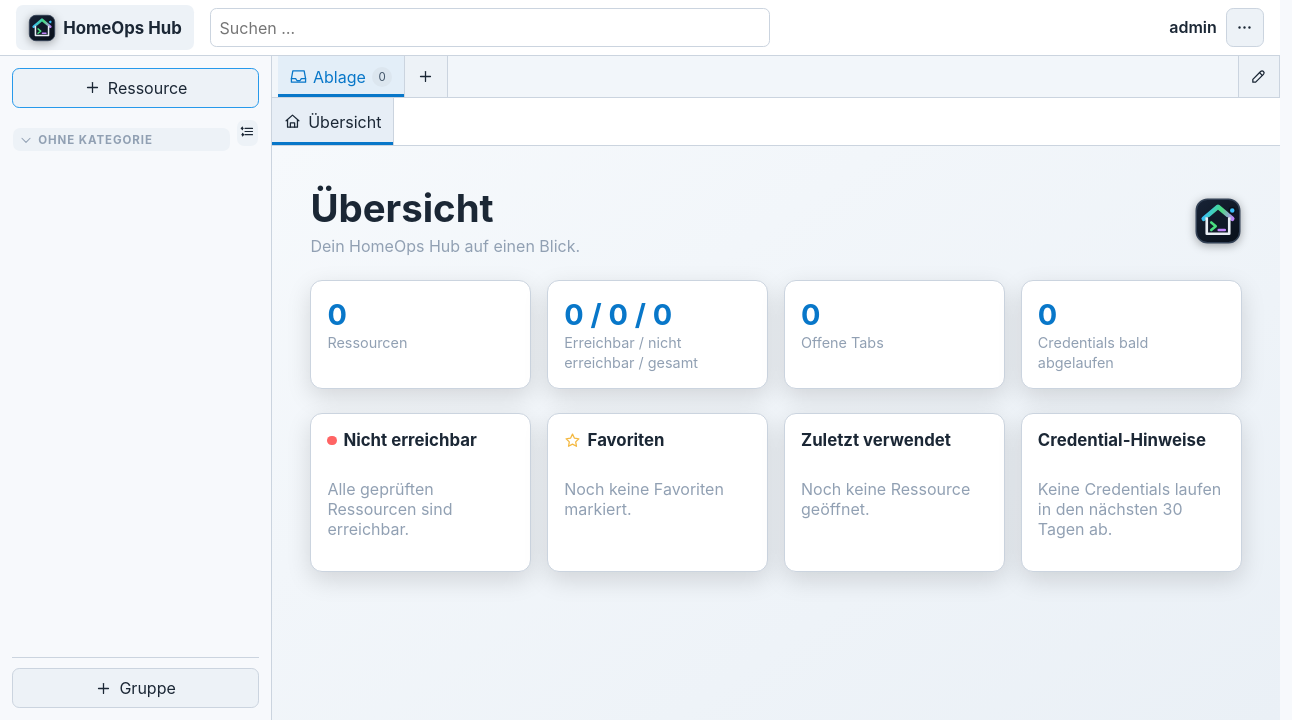
Test: shows a visible error when logout is rejected
Expected: the field with placeholder "Suchen …" is shown, [210, 8, 770, 47]
Click the button named "Benutzermenü" at point(1245, 28), box [1226, 8, 1264, 47]
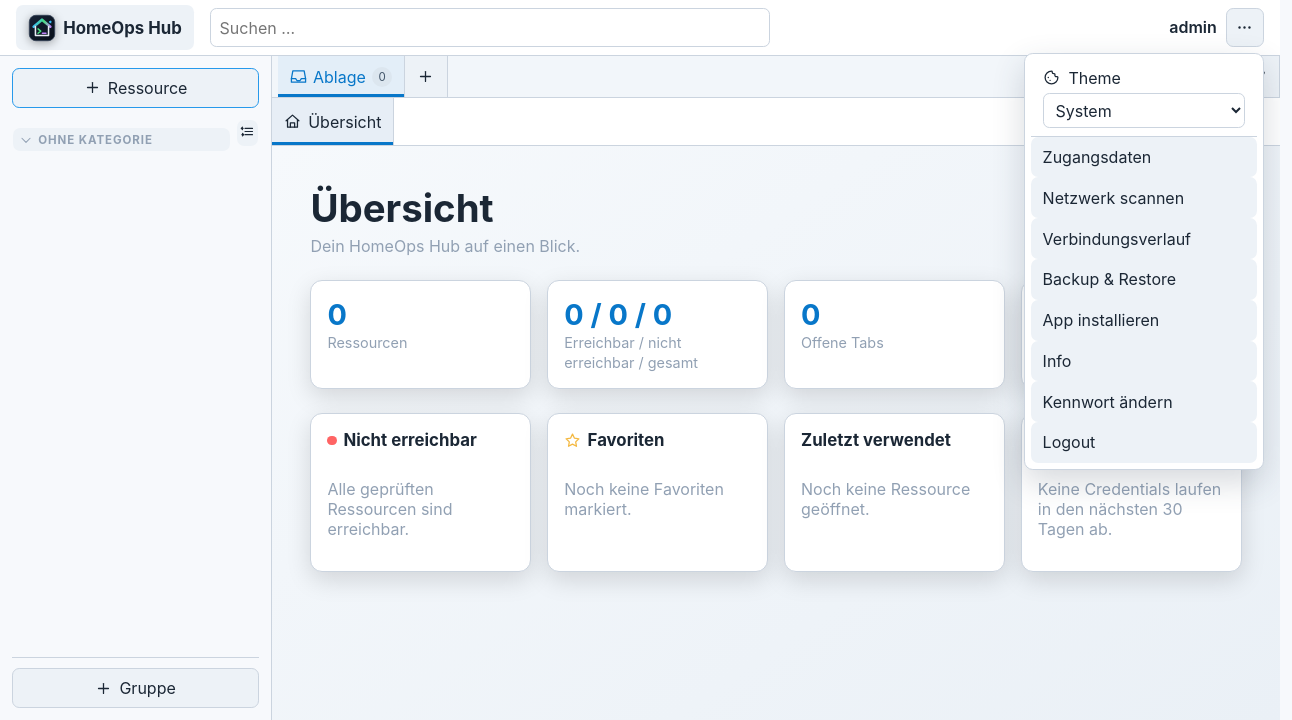
Click the menu item "Logout" at point(1144, 442), box [1031, 422, 1257, 463]
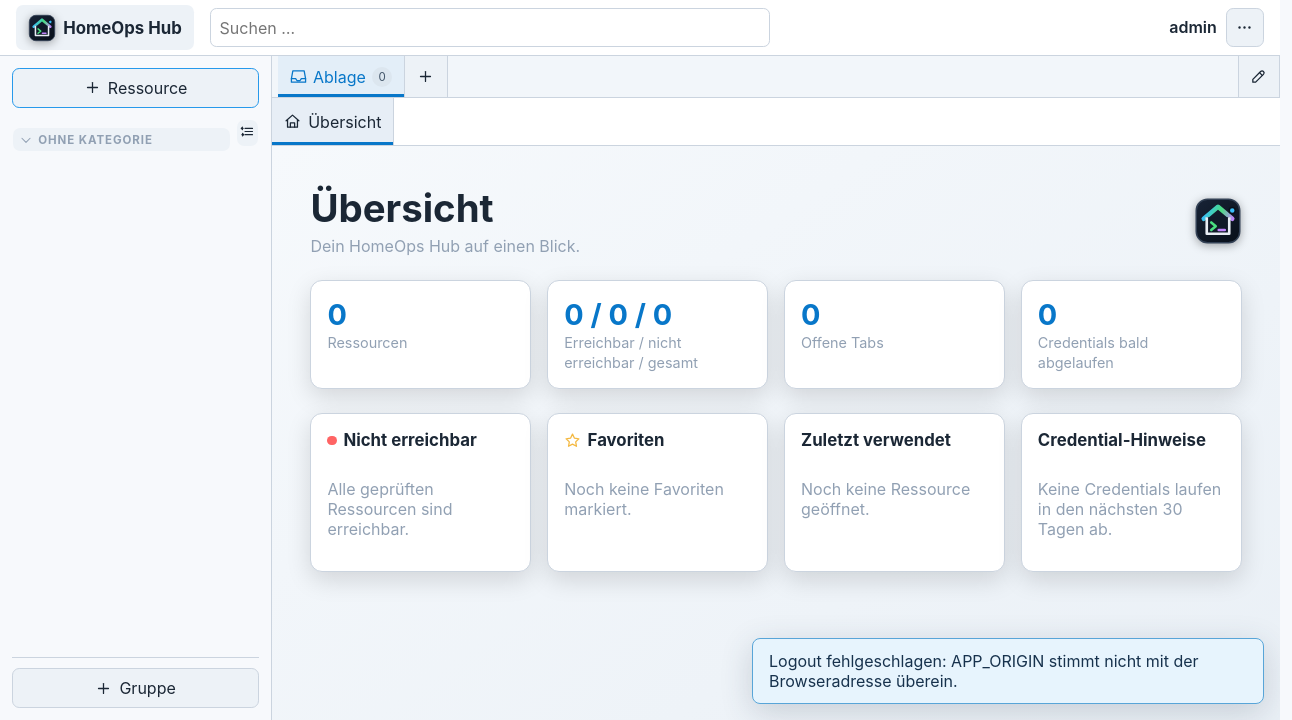
Result: the message reads "Logout fehlgeschlagen: APP_ORIGIN stimmt nicht mit der Browseradresse überein." at [769, 651, 1199, 691]
